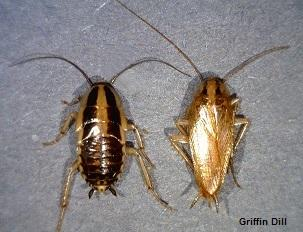cockroach: (183, 75, 242, 203), (71, 80, 130, 200)
